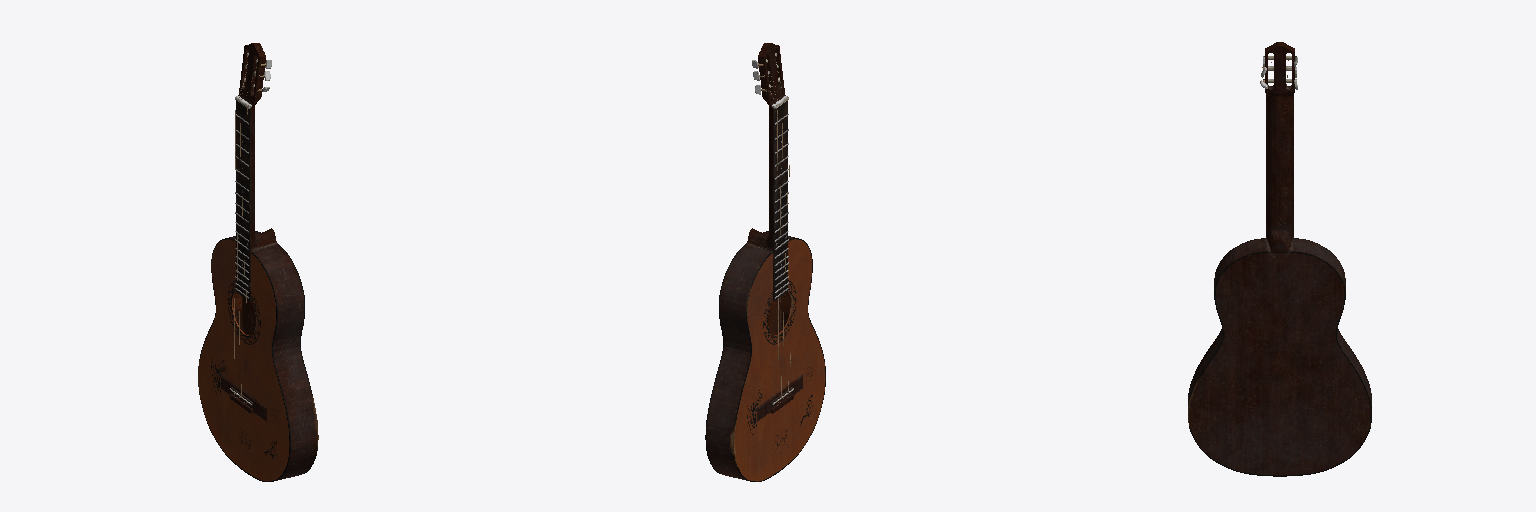
The picture shows the model from 3 angles: view 1: azimuth 30°, elevation 25°; view 2: azimuth 150°, elevation 25°; view 3: azimuth 270°, elevation 25°; orthographic projection.
Visible parts, largest first — view 1: Guitar; view 2: Guitar; view 3: Guitar.
Part boxes in pixels (x1,y1,x2,y2): Guitar: (198,43,318,481); Guitar: (705,43,825,481); Guitar: (1188,42,1371,476).
Size of the model in its own units: 0.705 by 8.68 by 3.4.
1 materials, 1 textured.